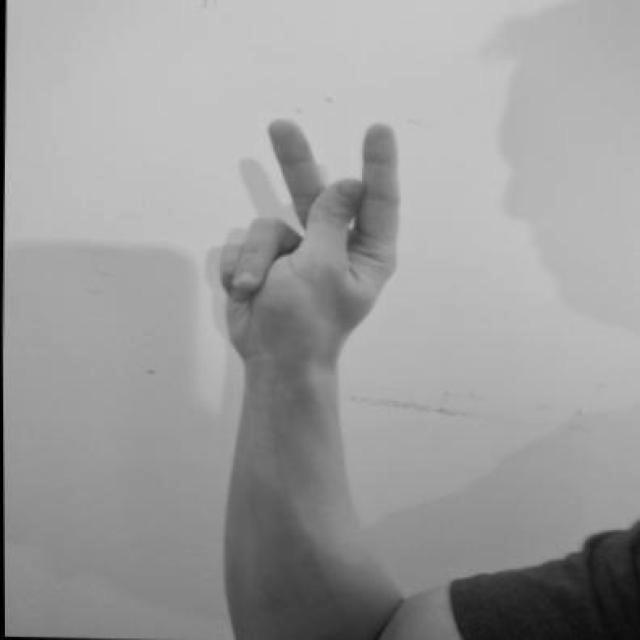K: (207, 107, 412, 367)
